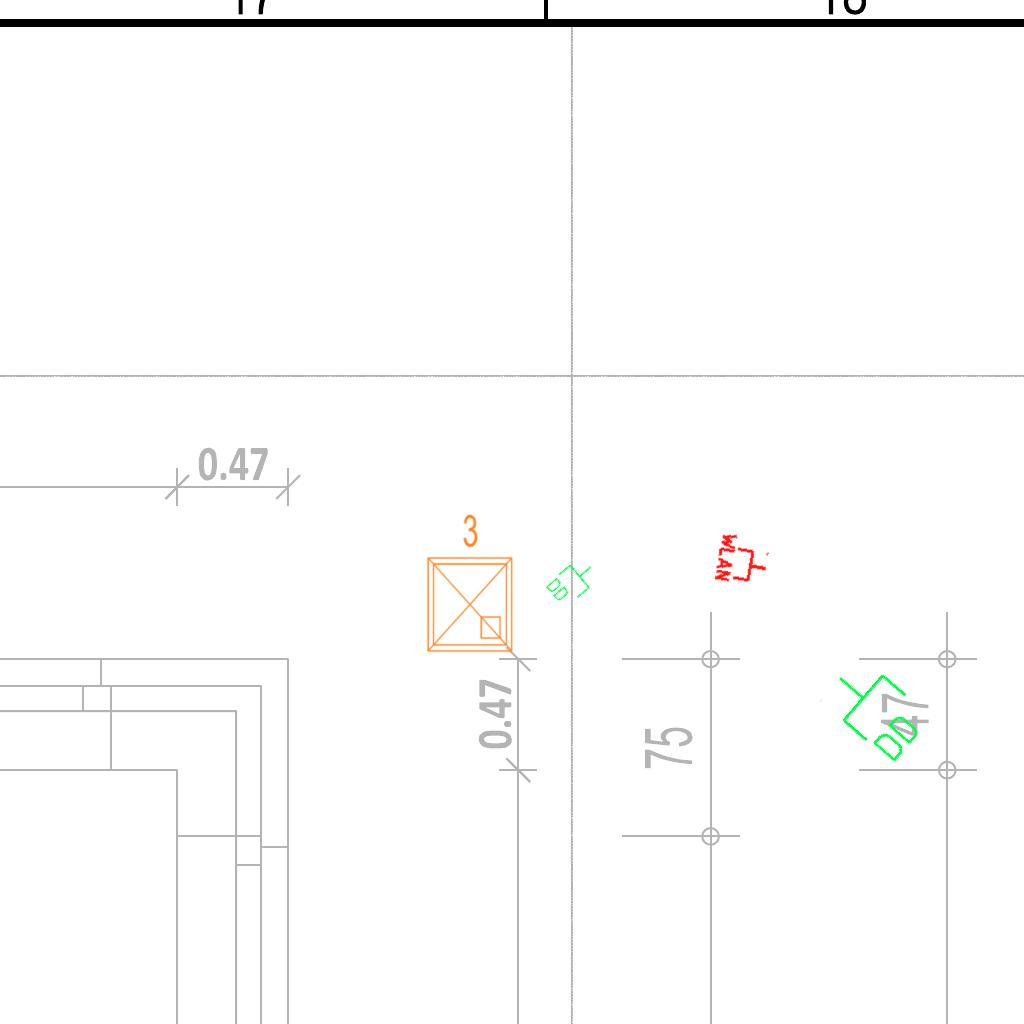Datenanschluss_zweifach: (814, 650, 939, 771), (542, 552, 603, 612)
Einbaudownlights_LED_Konferenzraeume: (416, 509, 520, 659)
WLAN: (712, 529, 774, 591)
